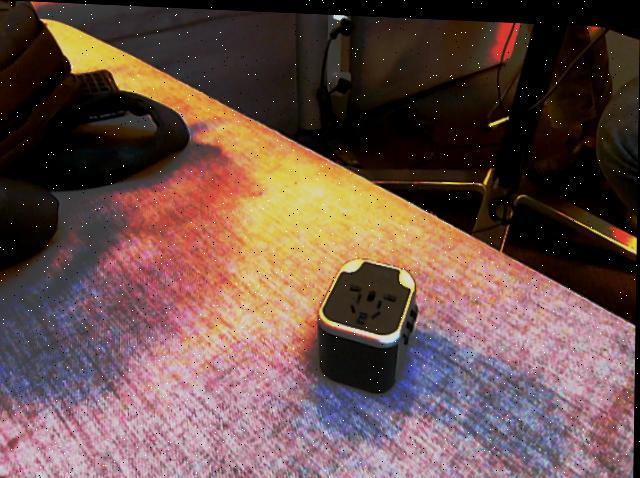adapter: (316, 252, 421, 392)
